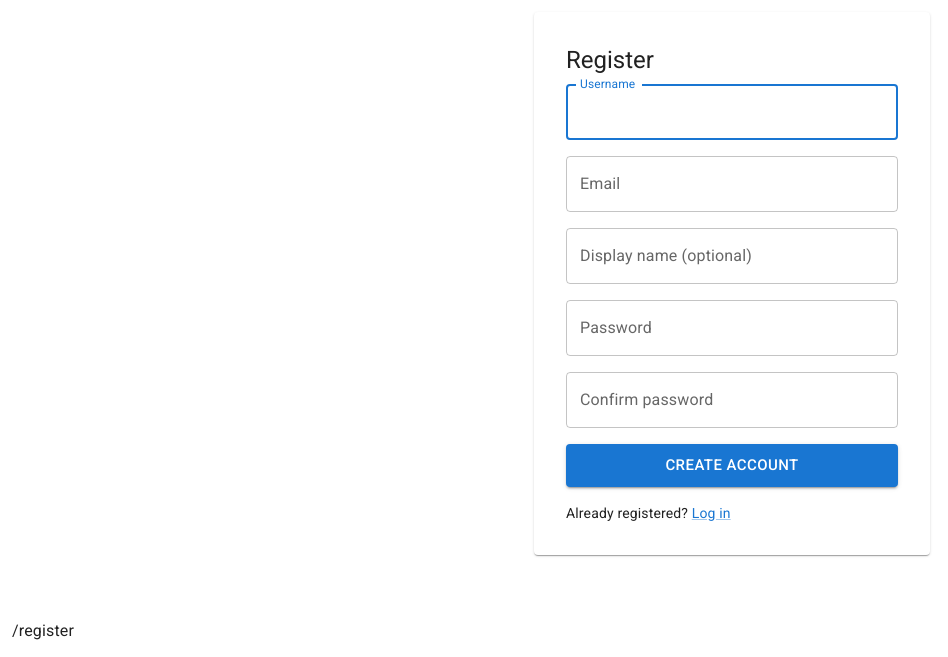
RegisterPage › links to the login page
Expected: the heading "Register" is shown, [566,46,654,74]
What coordinates should you click on to do the following:
click the link "Log in"
I would click on:
 (711, 513)
Its box is [692,505,731,521].
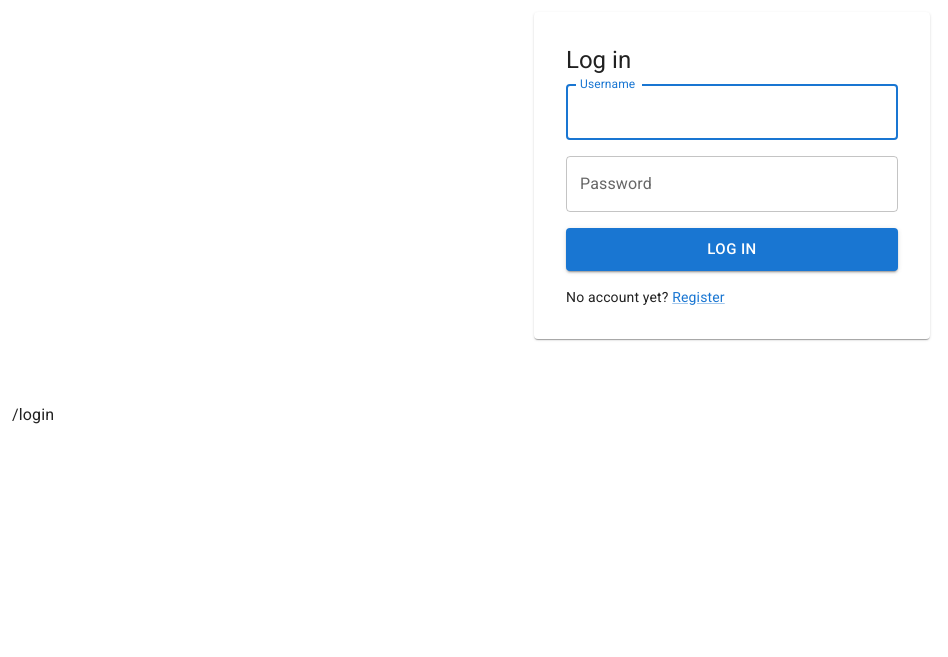
Result: the heading "Log in" is shown at [566,46,631,74]
